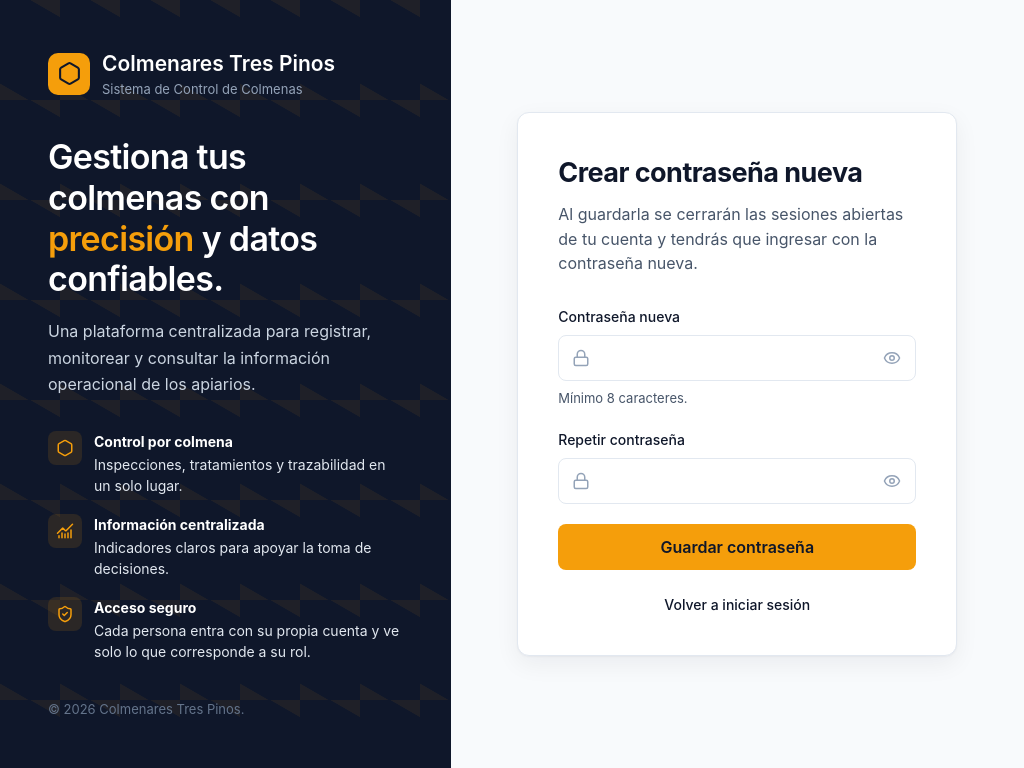
Test: restablecer: valida, envía el token del enlace y vuelve al login
The image size is (1024, 768).
Expected: the heading "Crear contraseña nueva" is shown, [558,156,862,189]
In the password field labelled "Contraseña nueva": (737, 358) [558,335,916,381], type "corta"
Click the button "Guardar contraseña": (737, 547) [558,524,916,570]
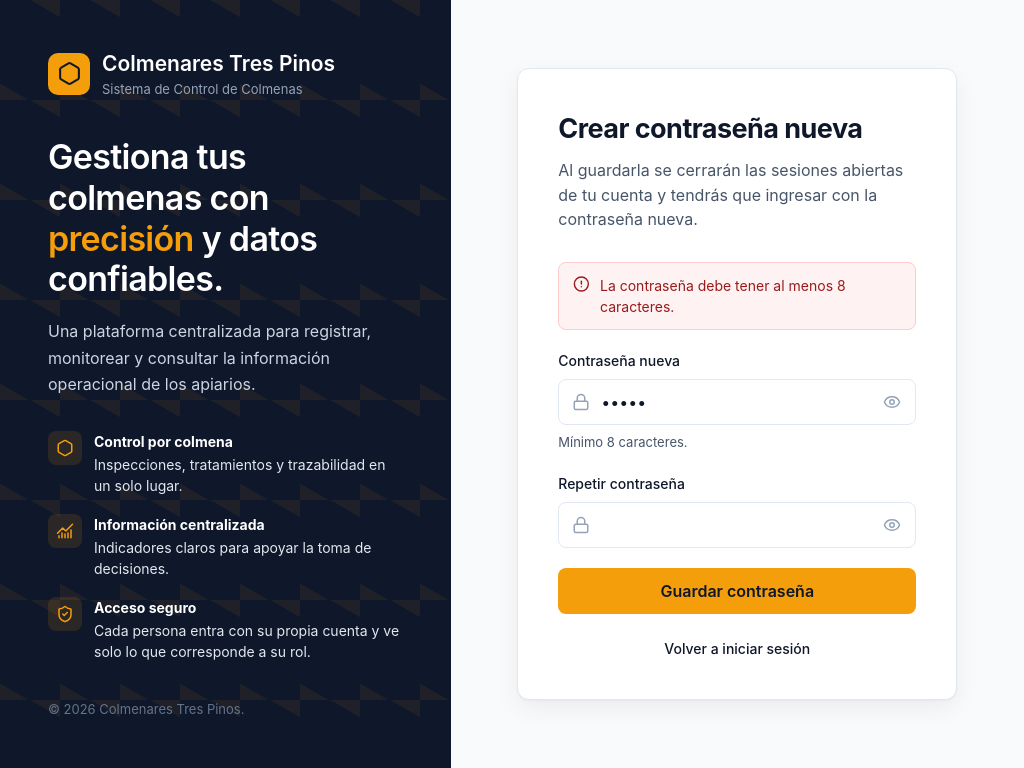
Expected: the text "La contraseña debe tener al menos 8 caracteres." is shown, [600,277,846,315]
In the password field labelled "Contraseña nueva": (737, 402) [558,379,916,425], type "NuevaClave1"
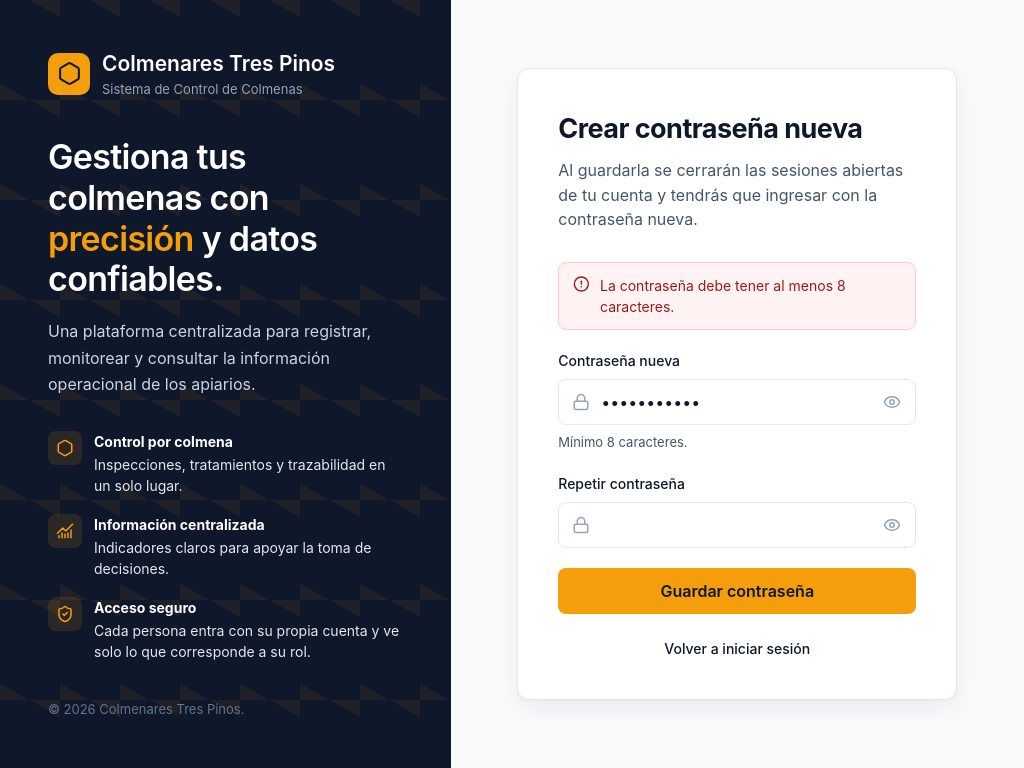
In the password field labelled "Repetir contraseña": (737, 525) [558,502,916,548], type "OtraClave1"
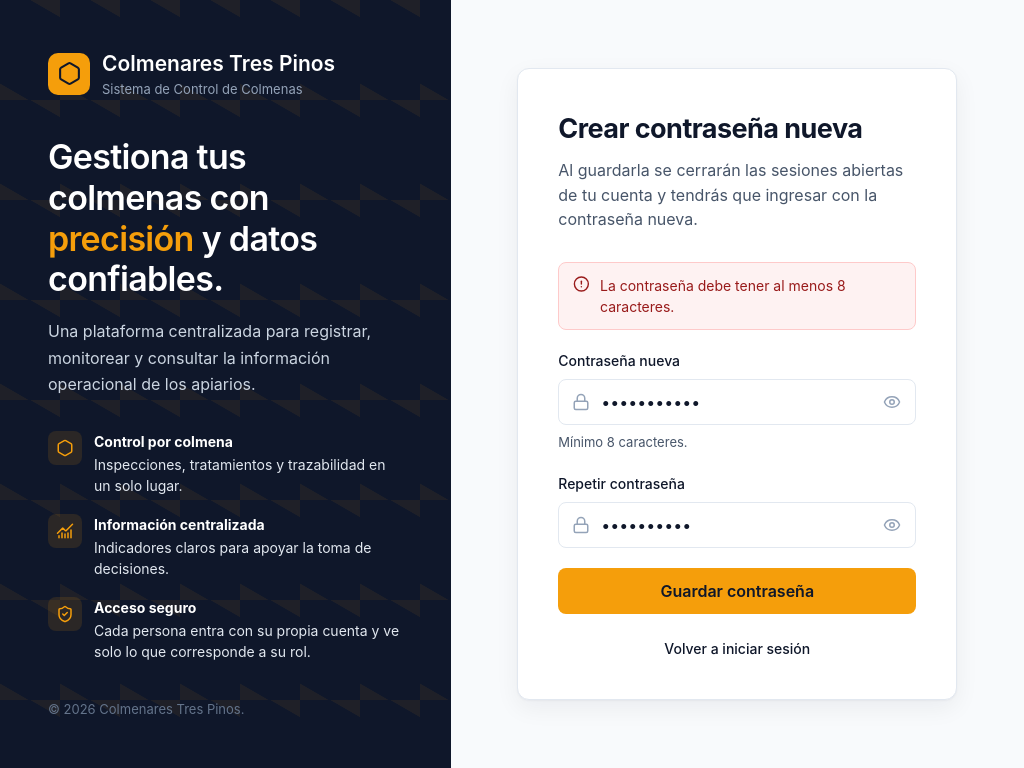
Click the button "Guardar contraseña": (737, 591) [558,568,916,614]
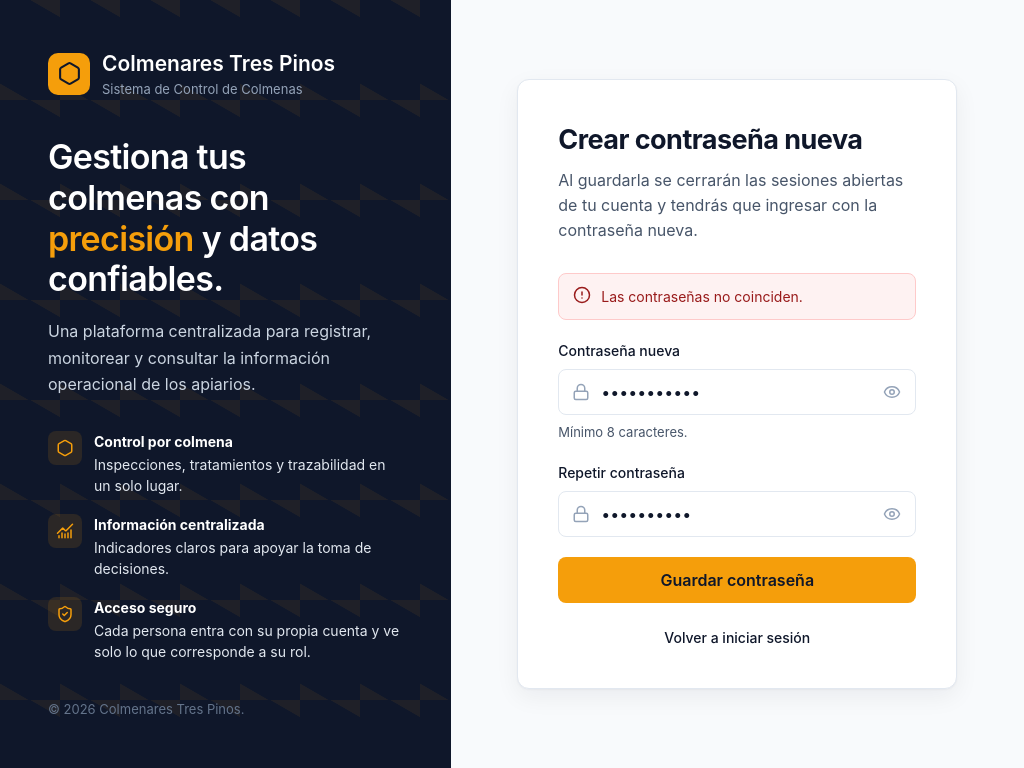
Expected: the text "Las contraseñas no coinciden." is shown, [601,286,803,307]
In the password field labelled "Repetir contraseña": (737, 514) [558,491,916,537], type "NuevaClave1"
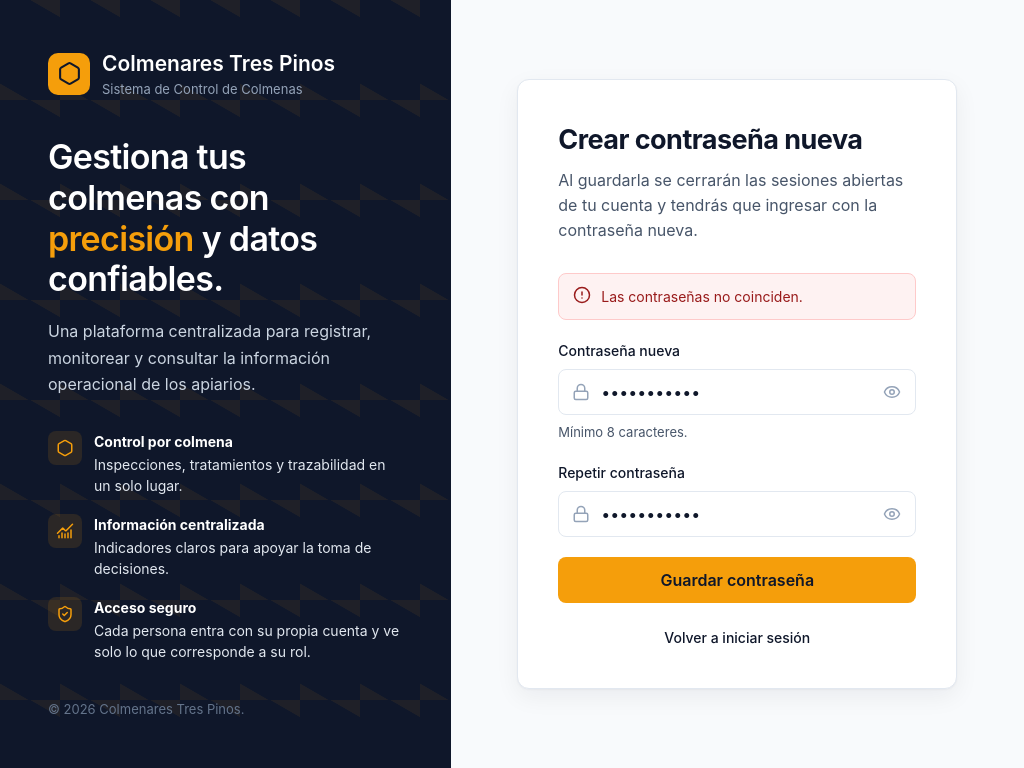
Click the button "Guardar contraseña": (737, 580) [558,557,916,603]
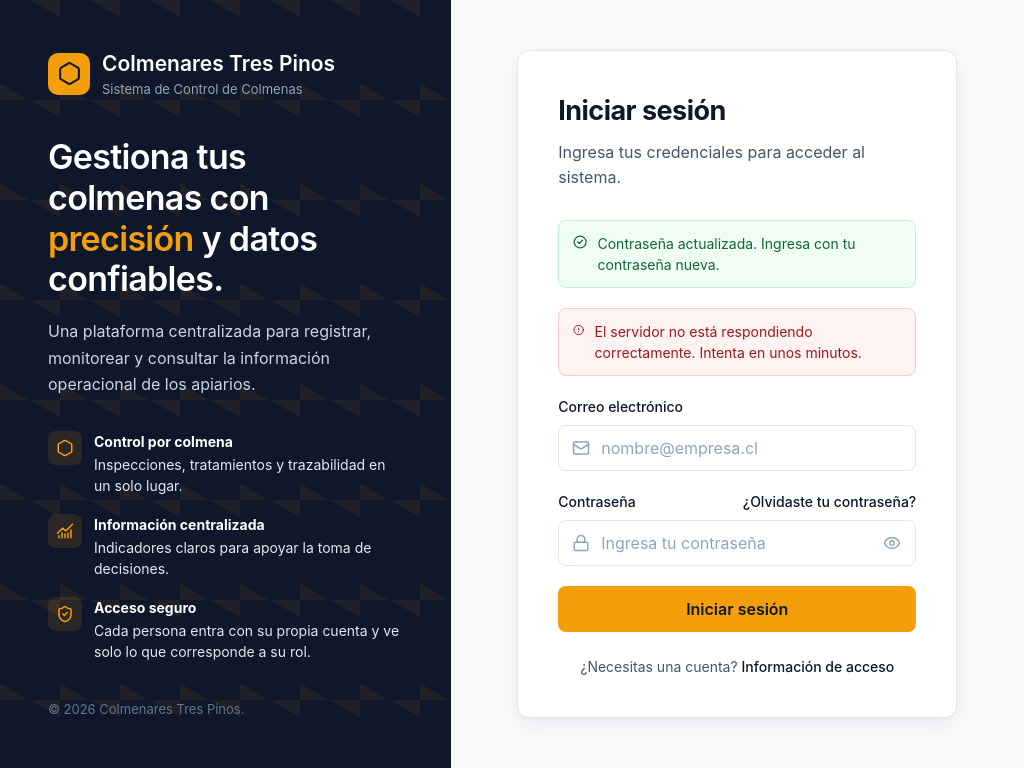
Expected: the text "Contraseña actualizada. Ingresa con tu contraseña nueva." is shown, [598,234,856,272]
